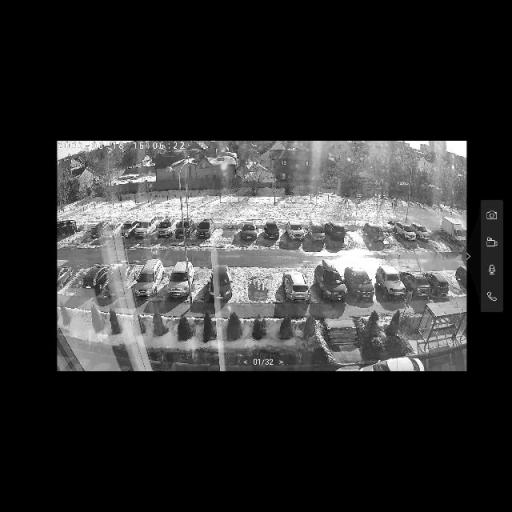busy: (312, 260, 348, 302), (340, 262, 375, 301), (166, 259, 197, 299), (135, 258, 166, 297), (373, 264, 406, 299), (105, 262, 138, 296), (81, 263, 113, 297), (207, 262, 231, 304), (400, 266, 429, 300), (283, 273, 314, 303), (363, 356, 426, 370), (442, 216, 467, 245), (425, 270, 449, 298), (154, 218, 182, 236), (100, 220, 130, 236), (132, 218, 160, 235), (364, 221, 385, 243), (285, 222, 310, 240), (394, 221, 416, 241), (195, 218, 215, 240), (325, 222, 347, 242), (404, 224, 434, 238), (310, 219, 326, 245), (176, 218, 194, 240), (90, 220, 110, 239), (264, 219, 280, 242), (242, 220, 258, 242), (58, 266, 72, 290), (457, 266, 468, 296)
free: (246, 271, 272, 303), (66, 268, 88, 294), (216, 224, 238, 246), (344, 224, 365, 246), (380, 225, 398, 247), (446, 272, 462, 296), (430, 227, 444, 247)
